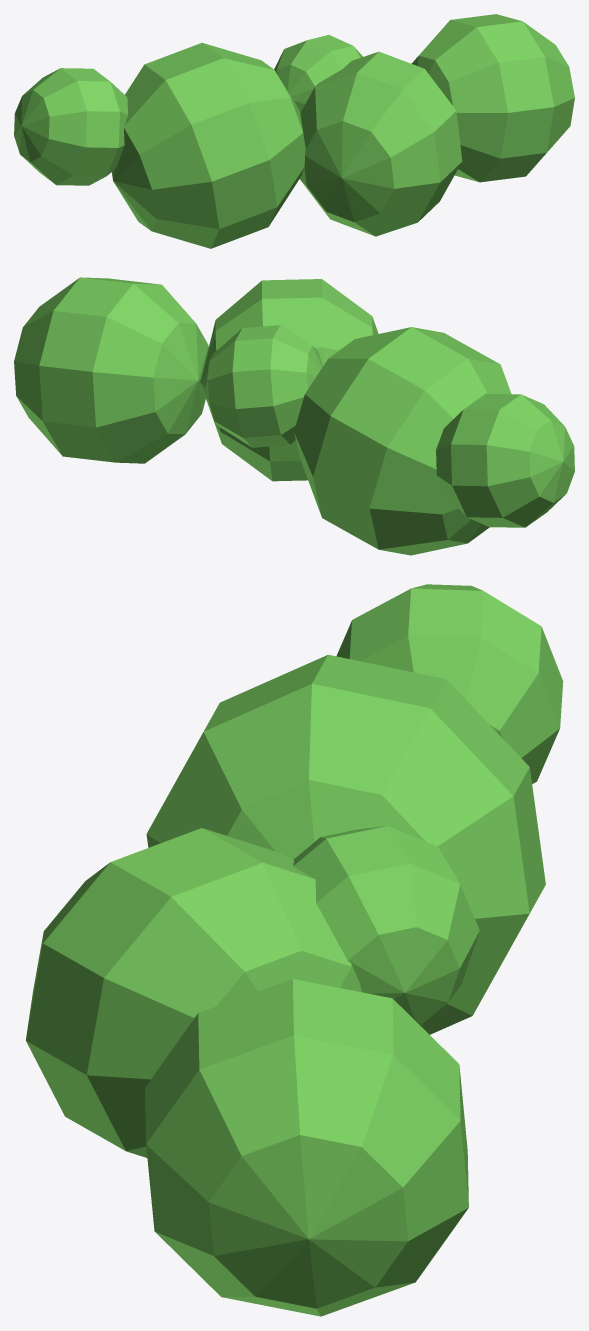
The model's file is bushes_4_world_ap_0_lev1.glb.
3 views of the same model, one above another, from view 1: azimuth 30°, elevation 25°; view 2: azimuth 150°, elevation 25°; view 3: azimuth 270°, elevation 25° (orthographic). The views are drawn at different scales.
Parts seen in each view (by area): view 1: bushes_4_world_ap_0_lev1; view 2: bushes_4_world_ap_0_lev1; view 3: bushes_4_world_ap_0_lev1.
Boxes of the visible parts, box(x1,y1,x2,y2) form: bushes_4_world_ap_0_lev1: box(14, 14, 574, 248); bushes_4_world_ap_0_lev1: box(14, 277, 574, 555); bushes_4_world_ap_0_lev1: box(26, 584, 563, 1316).
Bounding box in the file's own units: 1.27 × 0.4411 × 0.5848.
Materials: 1 (1 with a texture image).
